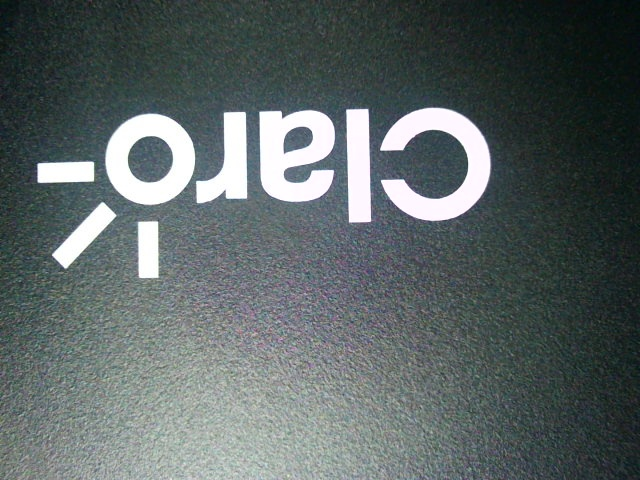BC_Claor: (38, 63, 493, 278)
